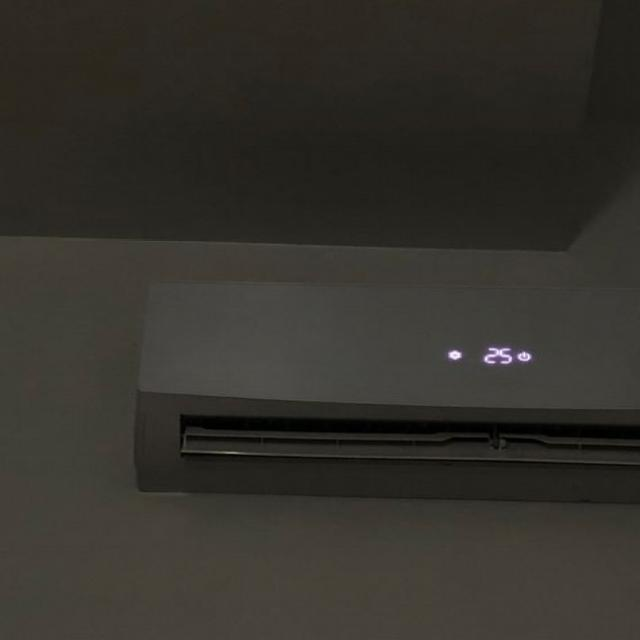AC: (133, 278, 639, 503)
